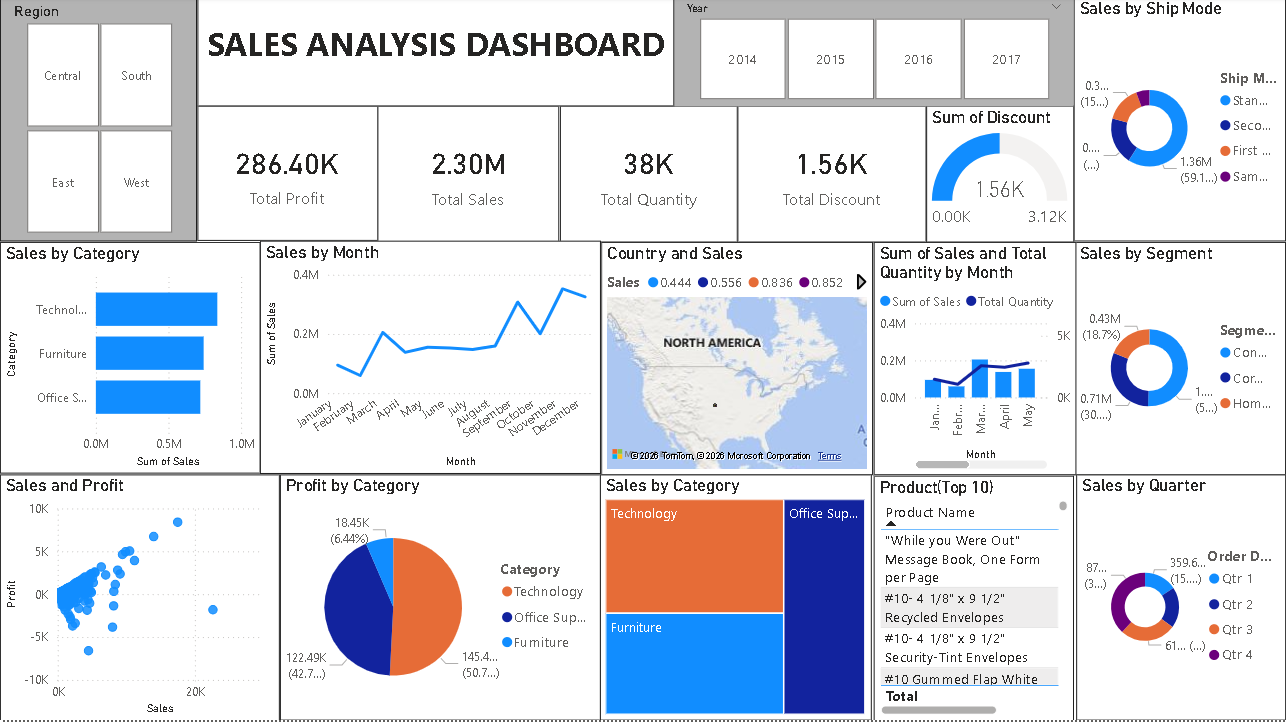

What the dashboard file says about the page in this screenshot:
{"tool":"powerbi","page":{"name":"Page 1","canvas":[1280,720],"ordinal":0},"visuals":[{"type":"card","fields":{"Values":["sample_-_superstore xls - Orders.Total Profit"]},"box":[196.2,108.4,179.8,134.5],"z":0},{"type":"card","fields":{"Values":["sample_-_superstore xls - Orders.Total Sales"]},"box":[376,108.4,181.1,135.8],"z":1000},{"type":"card","fields":{"Values":["sample_-_superstore xls - Orders.Total Quantity"]},"box":[557.1,108.4,177,135.8],"z":2000},{"type":"card","fields":{"Values":["sample_-_superstore xls - Orders.Total Discount"]},"box":[734.1,108.4,188,135.8],"z":3000},{"type":"barChart","title":"Sales by Category ","fields":{"Y":["Sum(sample_-_superstore xls - Orders.Sales)"],"Category":["sample_-_superstore xls - Orders.Category"]},"box":[0,244.3,259.3,230.5],"z":4000},{"type":"lineChart","title":"Sales by Month","fields":{"Y":["Sum(sample_-_superstore xls - Orders.Sales)"],"Category":["sample_-_superstore xls - Orders.Order Date.Variation.Date Hierarchy.Month"]},"box":[259.3,242.9,338.9,231.9],"z":5000},{"type":"map","fields":{"Series":["sample_-_superstore xls - Orders.Sales"],"Category":["sample_-_superstore xls - Orders.Country"]},"box":[598.3,244.3,270.3,231.9],"z":6000},{"type":"scatterChart","fields":{"X":["sample_-_superstore xls - Orders.Sales"],"Y":["sample_-_superstore xls - Orders.Profit"]},"box":[0,474.8,278.6,245.6],"z":7000},{"type":"pieChart","title":"Profit by Category","fields":{"Category":["sample_-_superstore xls - Orders.Category"],"Y":["Sum(sample_-_superstore xls - Orders.Profit)"]},"box":[279,475,319,245],"z":8000},{"type":"treemap","title":"Sales by Category","fields":{"Group":["sample_-_superstore xls - Orders.Category"],"Values":["Sum(sample_-_superstore xls - Orders.Sales)"]},"box":[597.5,475,270,245],"z":9000},{"type":"gauge","fields":{"Y":["Sum(sample_-_superstore xls - Orders.Discount)"]},"box":[922.1,108.4,146.8,135.8],"z":10000},{"type":"slicer","fields":{"Values":["sample_-_superstore xls - Orders.Order Date.Variation.Date Hierarchy.Year"]},"box":[671,0,397.9,108.4],"z":10001},{"type":"donutChart","title":"Sales by Ship Mode","fields":{"Y":["Sum(sample_-_superstore xls - Orders.Sales)"],"Category":["sample_-_superstore xls - Orders.Ship Mode"]},"box":[1069,0,211.3,242.9],"z":10002},{"type":"donutChart","title":"Sales by Segment","fields":{"Y":["Sum(sample_-_superstore xls - Orders.Sales)"],"Category":["sample_-_superstore xls - Orders.Segment"]},"box":[1069,244.3,211.3,231.9],"z":10003},{"type":"donutChart","title":"Sales by Quarter","fields":{"Y":["Sum(sample_-_superstore xls - Orders.Sales)"],"Category":["sample_-_superstore xls - Orders.Order Date.Variation.Date Hierarchy.Quarter"]},"box":[1071.2,475,208.8,245],"z":10004},{"type":"slicer","fields":{"Values":["sample_-_superstore xls - Orders.Region"]},"box":[0,0,196.2,242.9],"z":10005},{"type":"textbox","box":[196.2,0,474.8,108.4],"z":10006},{"type":"lineStackedColumnComboChart","fields":{"Y":["Sum(sample_-_superstore xls - Orders.Sales)"],"Category":["sample_-_superstore xls - Orders.Order Date.Variation.Date Hierarchy.Month"],"Y2":["sample_-_superstore xls - Orders.Total Quantity"]},"box":[870,244.3,201.7,231.9],"z":10007},{"type":"tableEx","title":"Product(Top 10)","fields":{"Values":["sample_-_superstore xls - Orders.Product Name","sample_-_superstore xls - Orders.Total Sales"]},"box":[870,476,199,244],"z":10008}]}

Visuals, with their boxes in screenshot pixels (x1, y1, x2, y2), scaled from the page's 1280x720 canvas onto the 1286x723 screenshot:
card - sample_-_superstore xls - Orders.Total Profit: x1=197, y1=109, x2=378, y2=244
card - sample_-_superstore xls - Orders.Total Sales: x1=378, y1=109, x2=560, y2=245
card - sample_-_superstore xls - Orders.Total Quantity: x1=560, y1=109, x2=738, y2=245
card - sample_-_superstore xls - Orders.Total Discount: x1=738, y1=109, x2=926, y2=245
"Sales by Category " barChart: x1=0, y1=245, x2=261, y2=477
"Sales by Month" lineChart: x1=261, y1=244, x2=601, y2=477
map - sample_-_superstore xls - Orders.Sales x sample_-_superstore xls - Orders.Country: x1=601, y1=245, x2=873, y2=478
scatterChart - sample_-_superstore xls - Orders.Sales x sample_-_superstore xls - Orders.Profit: x1=0, y1=477, x2=280, y2=722
"Profit by Category" pieChart: x1=280, y1=477, x2=601, y2=722
"Sales by Category" treemap: x1=600, y1=477, x2=872, y2=722
gauge - Sum(sample_-_superstore xls - Orders.Discount): x1=926, y1=109, x2=1074, y2=245
slicer - sample_-_superstore xls - Orders.Order Date.Variation.Date Hierarchy.Year: x1=674, y1=0, x2=1074, y2=109
"Sales by Ship Mode" donutChart: x1=1074, y1=0, x2=1285, y2=244
"Sales by Segment" donutChart: x1=1074, y1=245, x2=1285, y2=478
"Sales by Quarter" donutChart: x1=1076, y1=477, x2=1285, y2=722
slicer - sample_-_superstore xls - Orders.Region: x1=0, y1=0, x2=197, y2=244
textbox: x1=197, y1=0, x2=674, y2=109
lineStackedColumnComboChart - Sum(sample_-_superstore xls - Orders.Sales) x sample_-_superstore xls - Orders.Order Date.Variation.Date Hierarchy.Month: x1=874, y1=245, x2=1077, y2=478
"Product(Top 10)" tableEx: x1=874, y1=478, x2=1074, y2=722
